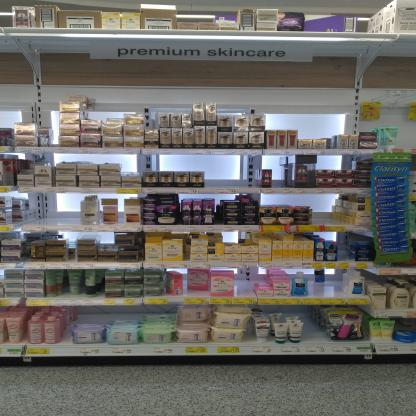Void: (307, 194, 350, 223), (208, 156, 250, 182), (3, 104, 56, 124), (301, 115, 331, 140), (77, 308, 134, 321), (51, 194, 76, 223), (302, 309, 323, 339), (151, 155, 198, 168), (235, 269, 256, 296), (59, 154, 119, 163), (268, 112, 298, 128), (259, 194, 304, 204), (330, 277, 349, 300), (276, 158, 291, 185), (96, 101, 120, 117), (318, 156, 350, 168), (310, 274, 324, 297), (123, 158, 142, 173), (144, 305, 172, 313), (102, 233, 114, 243)
